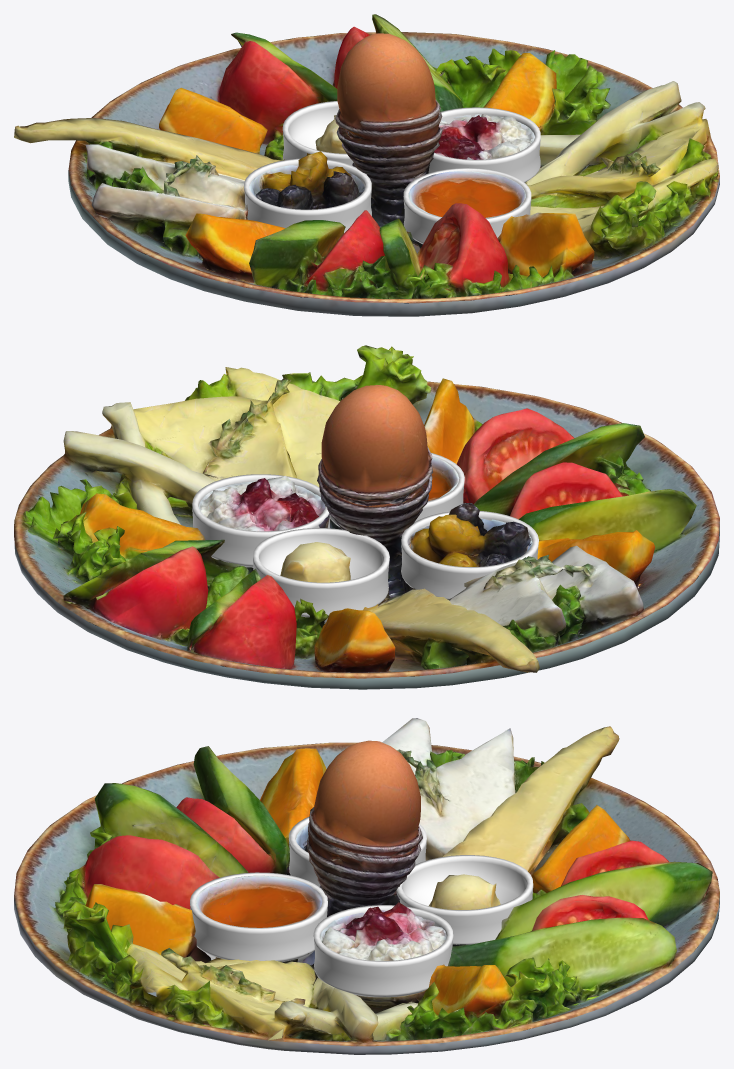
Rendered from breakfast_food.glb.
The picture shows the model from 3 angles, top to bottom: view 1: azimuth 30°, elevation 25°; view 2: azimuth 150°, elevation 25°; view 3: azimuth 270°, elevation 25°; orthographic projection. The views are drawn at different scales.
Visible parts, largest first — view 1: 4.001_object.004_1, KaseBuyuk.010_Cylinder.024_6, KaseBuyuk.008_Cylinder.022_4, KaseBuyuk.007_Cylinder.021_3, KaseBuyuk.009_Cylinder.023_5, KaseBuyuk.005_Cylinder.001_2; view 2: 4.001_object.004_1, KaseBuyuk.007_Cylinder.021_3, KaseBuyuk.010_Cylinder.024_6, KaseBuyuk.005_Cylinder.001_2, KaseBuyuk.008_Cylinder.022_4, KaseBuyuk.009_Cylinder.023_5; view 3: 4.001_object.004_1, KaseBuyuk.007_Cylinder.021_3, KaseBuyuk.010_Cylinder.024_6, KaseBuyuk.009_Cylinder.023_5, KaseBuyuk.008_Cylinder.022_4.
Boxes of the visible parts, x1,y1,x2,y2 form: 4.001_object.004_1: (14, 14, 719, 316); KaseBuyuk.010_Cylinder.024_6: (428, 107, 540, 182); KaseBuyuk.008_Cylinder.022_4: (244, 158, 371, 232); KaseBuyuk.007_Cylinder.021_3: (282, 101, 353, 165); KaseBuyuk.009_Cylinder.023_5: (403, 167, 531, 244); KaseBuyuk.005_Cylinder.001_2: (261, 162, 370, 211); 4.001_object.004_1: (14, 345, 719, 689); KaseBuyuk.007_Cylinder.021_3: (253, 528, 389, 623); KaseBuyuk.010_Cylinder.024_6: (192, 474, 330, 567); KaseBuyuk.005_Cylinder.001_2: (402, 511, 538, 591); KaseBuyuk.008_Cylinder.022_4: (401, 519, 538, 599); KaseBuyuk.009_Cylinder.023_5: (330, 453, 464, 526); 4.001_object.004_1: (14, 718, 719, 1054); KaseBuyuk.007_Cylinder.021_3: (396, 855, 533, 944); KaseBuyuk.010_Cylinder.024_6: (313, 905, 453, 997); KaseBuyuk.009_Cylinder.023_5: (190, 872, 327, 962); KaseBuyuk.008_Cylinder.022_4: (288, 818, 426, 886).
Size of the model in its own units: 0.6649 by 0.2111 by 0.665.
Materials: 6 (1 with a texture image).
